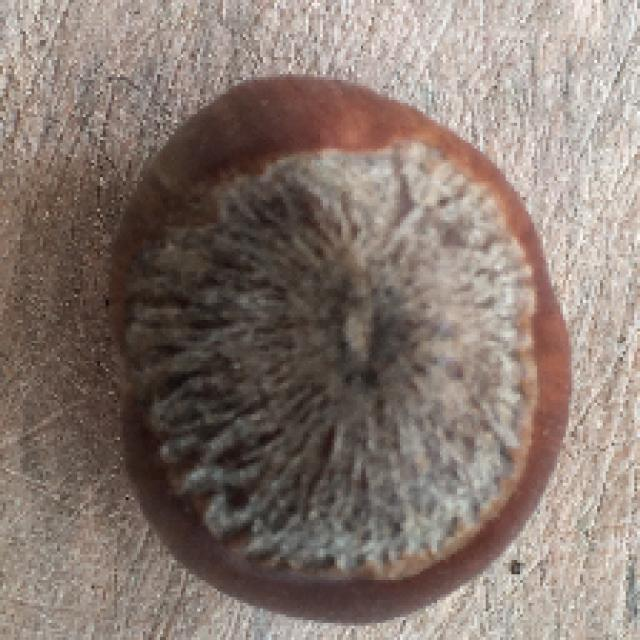qualityHazelnut: (105, 77, 581, 626)
